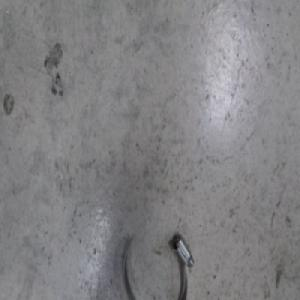AdjustableClamp: (121, 231, 195, 300)
